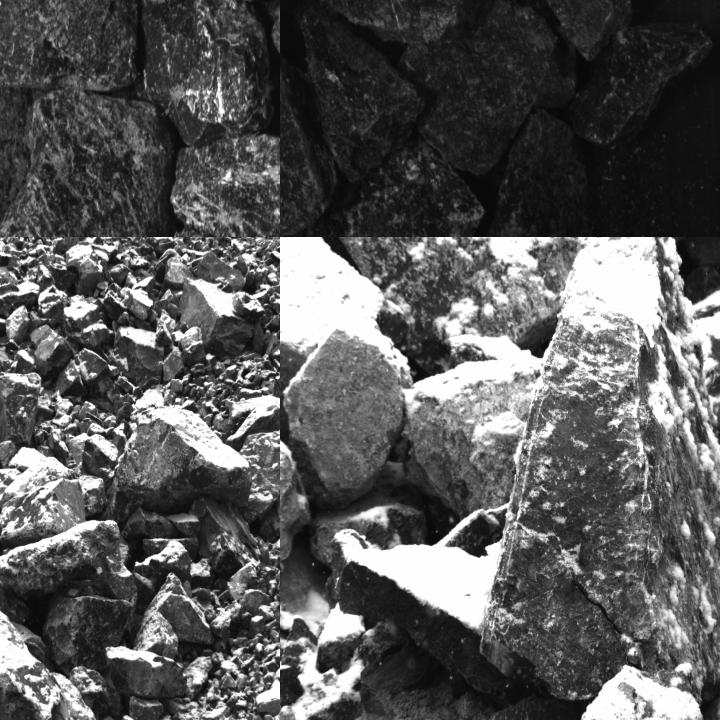stone: (477, 237, 719, 701), (330, 528, 512, 706), (394, 0, 575, 178), (0, 95, 174, 236), (281, 325, 405, 509), (402, 357, 542, 518), (301, 7, 422, 182), (139, 0, 278, 146), (566, 22, 712, 142), (306, 140, 485, 236), (468, 107, 598, 236), (107, 407, 250, 519), (0, 0, 143, 93), (280, 17, 335, 236), (171, 132, 279, 236), (0, 517, 121, 597), (473, 0, 633, 59), (0, 598, 70, 719), (178, 278, 266, 359), (47, 596, 132, 672), (578, 670, 702, 719), (0, 477, 84, 547), (190, 496, 259, 575), (149, 576, 216, 644), (107, 647, 187, 703), (134, 542, 192, 612), (242, 426, 279, 520), (112, 326, 163, 391), (0, 371, 41, 446), (62, 294, 112, 348), (57, 350, 112, 399), (72, 666, 124, 716), (121, 507, 180, 550), (187, 252, 246, 292), (30, 324, 73, 376), (134, 612, 181, 657), (157, 257, 195, 296), (81, 433, 117, 473), (78, 474, 110, 518), (0, 280, 39, 315), (38, 285, 70, 324), (179, 324, 207, 366), (3, 304, 30, 344), (121, 290, 154, 320), (126, 696, 166, 719), (166, 513, 202, 538), (0, 467, 17, 515), (162, 348, 184, 382), (156, 320, 171, 347), (271, 333, 279, 360)
